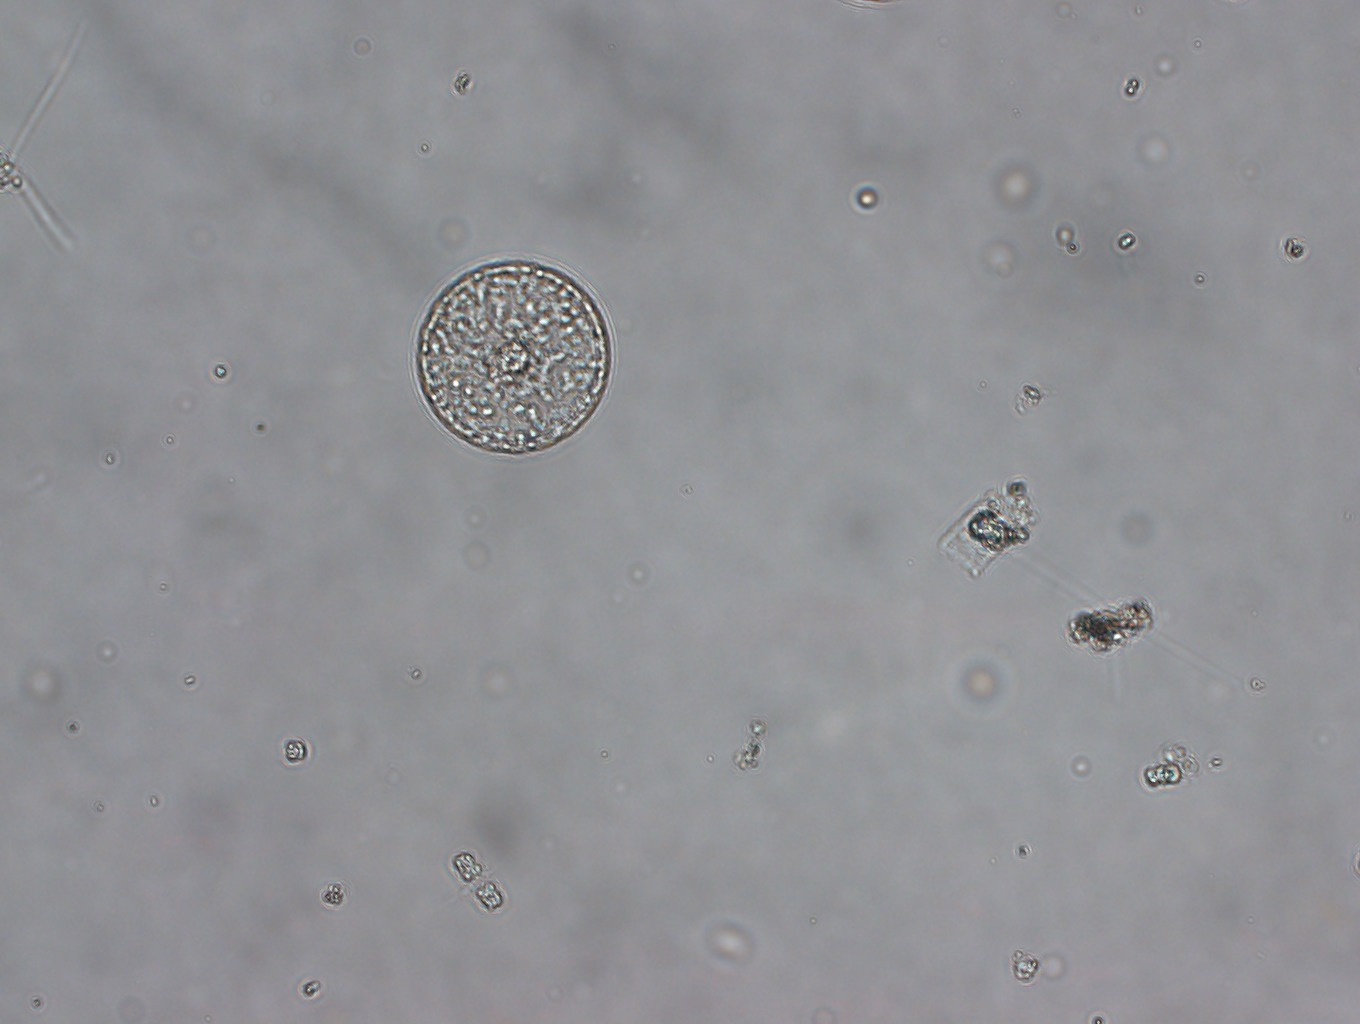coscinodiscus: (409, 248, 619, 463)
